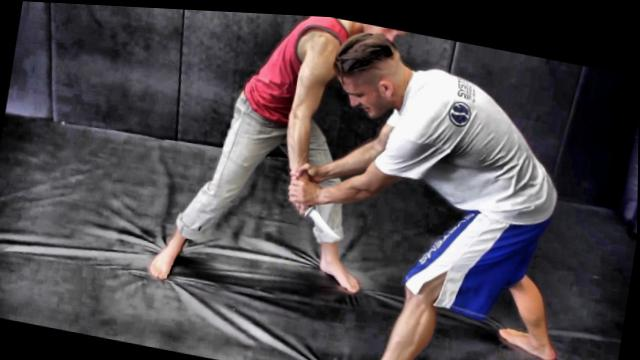knife: (278, 189, 351, 241)
